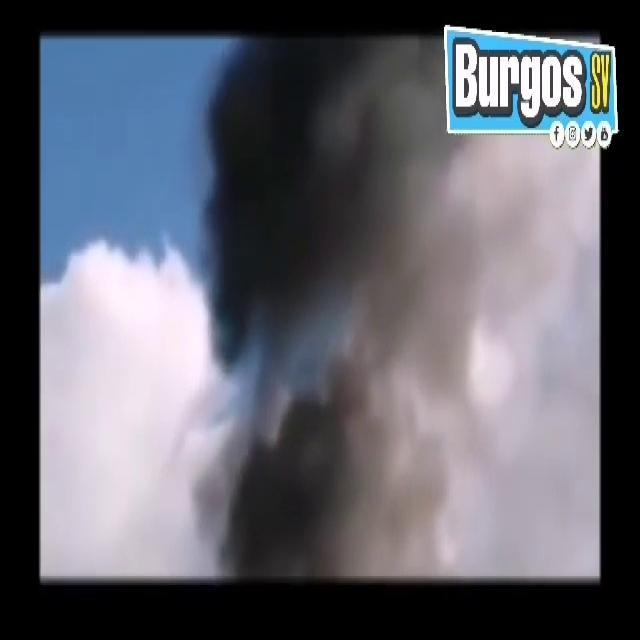Smoke: (195, 19, 570, 569)
